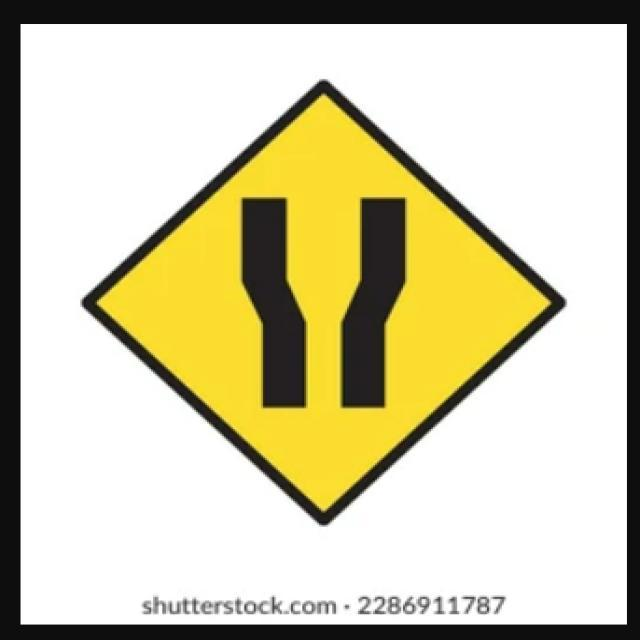road widens ahead: (78, 75, 570, 527)
